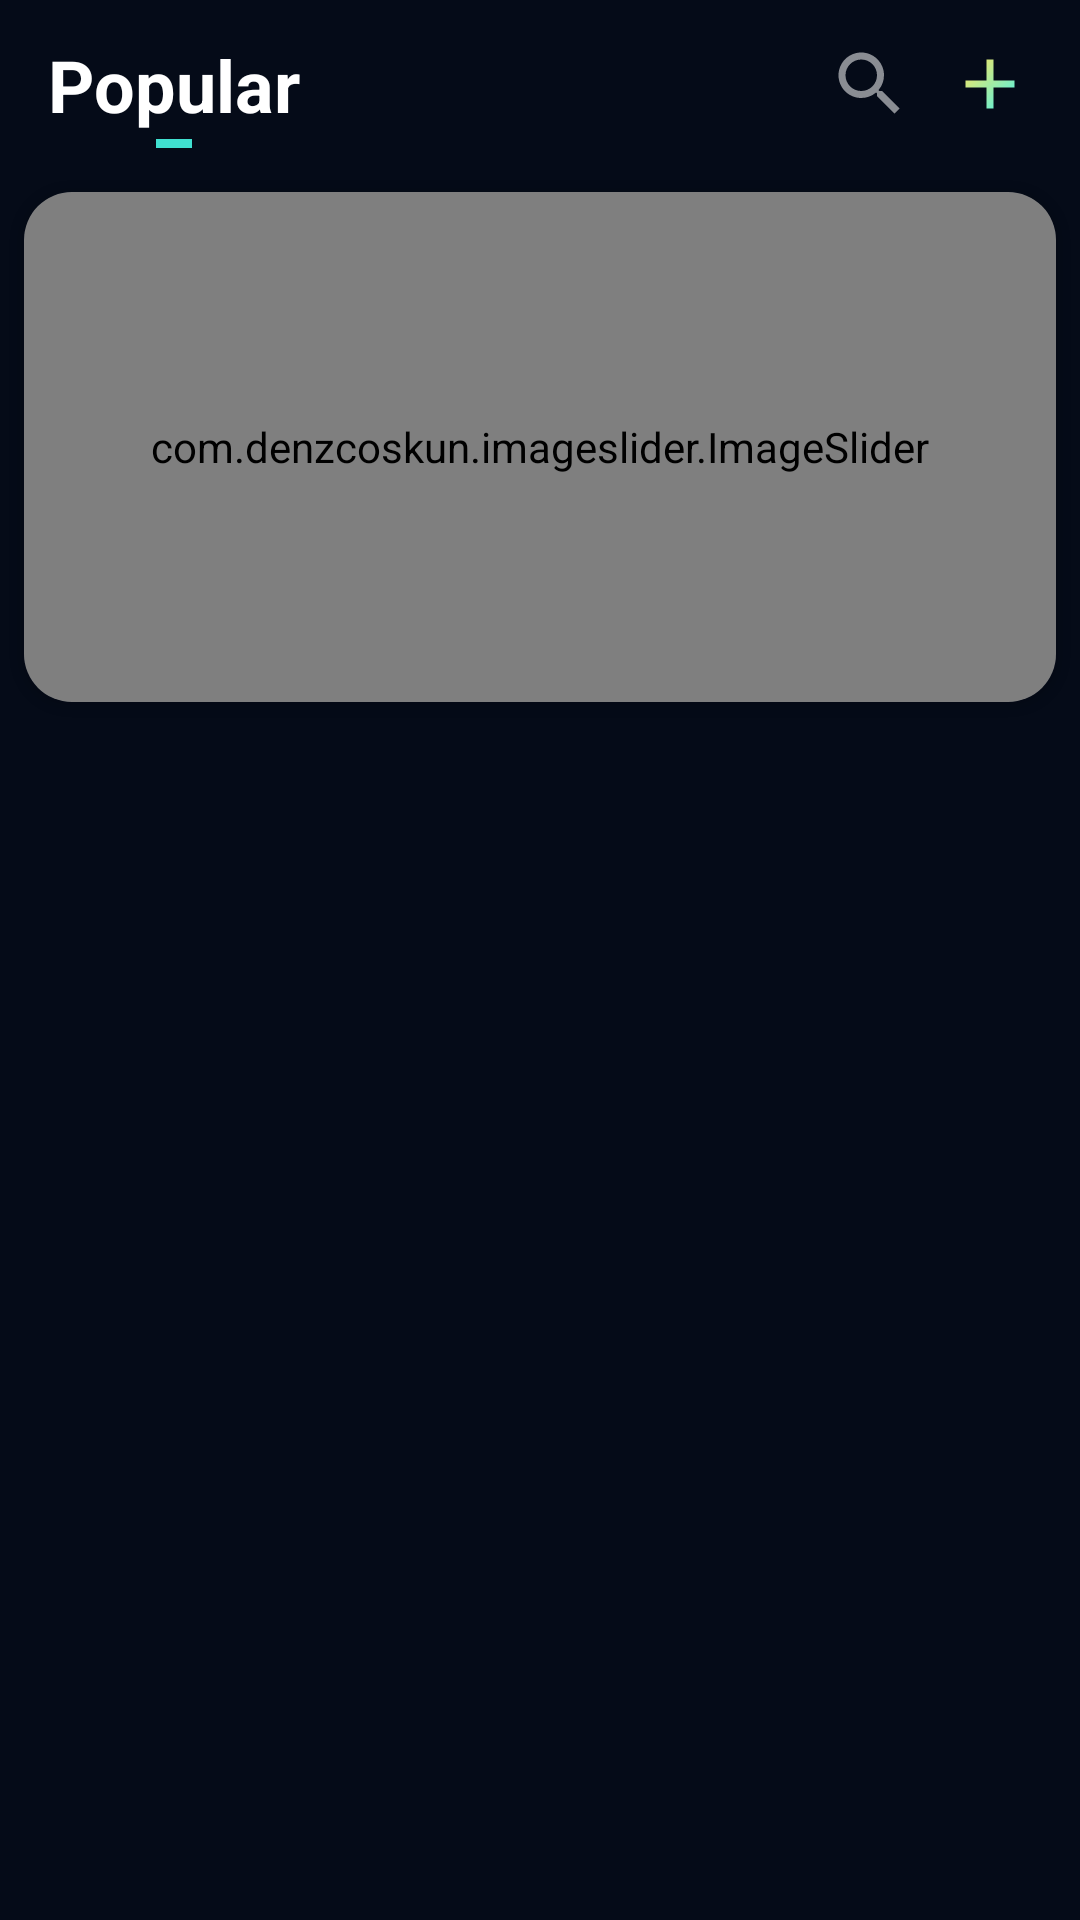

Point at icon controls on the screen. Image size 1080w x 1920h, points as (x,y).
search: (869,83)
